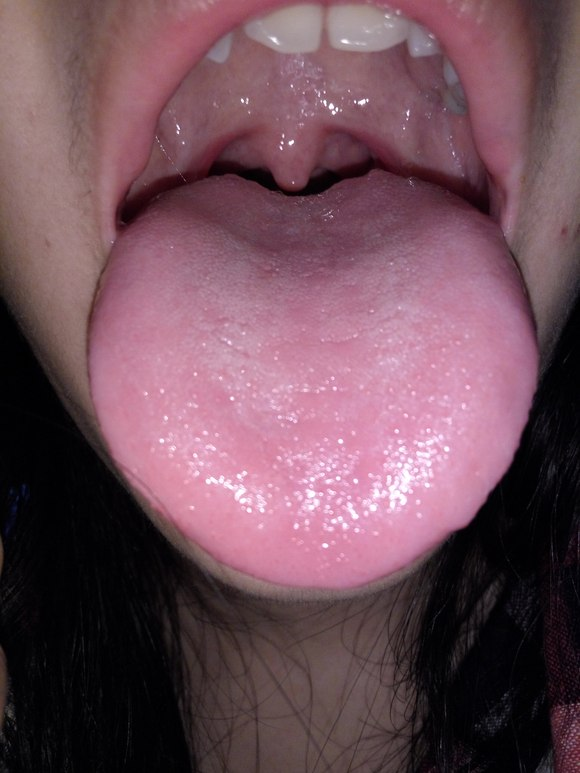huataishe: (137, 357, 470, 516)
pangdashe: (85, 169, 541, 591)
shenquao: (223, 170, 382, 218)
